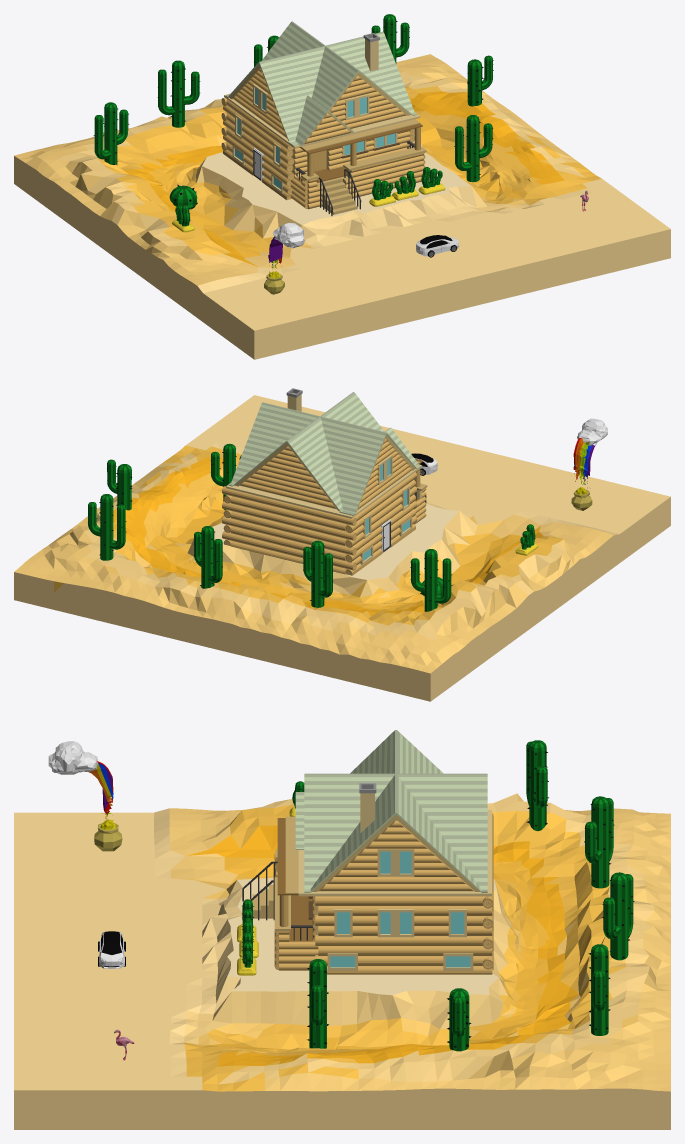
The picture shows the model from 3 angles, top to bottom: view 1: azimuth 30°, elevation 25°; view 2: azimuth 150°, elevation 25°; view 3: azimuth 270°, elevation 25°; orthographic projection. The views are drawn at different scales.
Visible parts, largest first — view 1: Cube.001, Cube.1516, Cylinder.037, Cylinder.044, Cylinder.045, OBJRANDOM_RAINBOW, Cylinder.038, Cylinder.042, VEHICLES_TESLA, Cylinder.039, Cylinder.041, Sphere.023 (+1 smaller); view 2: Cube.001, Cube.1516, Cylinder.042, Cylinder.045, OBJRANDOM_RAINBOW, Cylinder.044, Cylinder.043, Cylinder.038, Cylinder.037; view 3: Cube.001, Cube.1516, OBJRANDOM_RAINBOW, Cylinder.043, Cylinder.044, Cylinder.045, Cylinder.042, Cylinder.037, Cylinder.038, VEHICLES_TESLA, Cylinder.041.
Boxes of the visible parts, x1,y1,x2,y2 form: Cube.001: (14,54,670,359); Cube.1516: (221,21,426,215); Cylinder.037: (454,115,493,182); Cylinder.044: (157,60,200,127); Cylinder.045: (93,102,129,164); OBJRANDOM_RAINBOW: (264,223,305,294); Cylinder.038: (467,55,493,106); Cylinder.042: (371,14,409,63); VEHICLES_TESLA: (416,235,459,257); Cylinder.039: (369,179,395,206); Cylinder.041: (418,167,445,194); Sphere.023: (169,184,197,209); Cube.001: (14,395,670,701); Cube.1516: (222,388,427,575); Cylinder.042: (88,494,126,560); Cylinder.045: (410,549,452,611); OBJRANDOM_RAINBOW: (571,418,607,510); Cylinder.044: (303,540,333,607); Cylinder.043: (193,526,222,588); Cylinder.038: (107,459,131,510); Cylinder.037: (210,443,241,510); Cube.001: (14,793,670,1129); Cube.1516: (242,730,493,974); OBJRANDOM_RAINBOW: (48,741,122,851); Cylinder.043: (602,872,634,960); Cylinder.044: (584,796,614,888); Cylinder.045: (526,740,548,831); Cylinder.042: (588,944,610,1035); Cylinder.037: (307,959,328,1048); Cylinder.038: (447,988,471,1051); VEHICLES_TESLA: (98,931,125,968); Cylinder.041: (237,932,256,975).
Size of the model in its own units: 4002 by 1728 by 4001.
38 materials, 3 textured.
